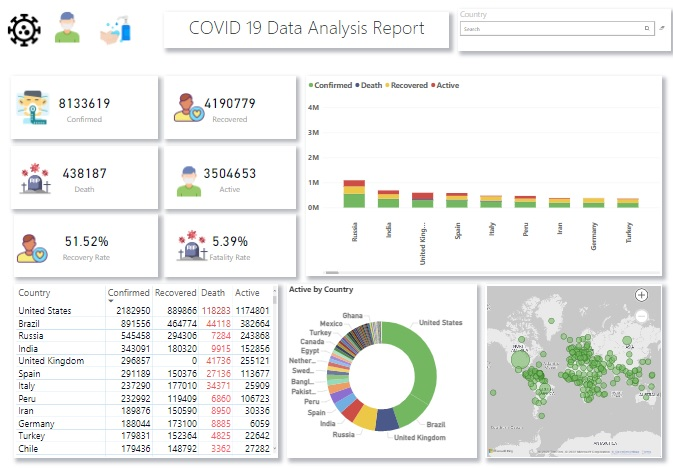

The dashboard page shown, as its layout file describes it:
{"tool":"powerbi","page":{"name":"DataAnalysis Covid","canvas":[1800,1300],"ordinal":0},"visuals":[{"type":"card","fields":{"Values":["Sum(countries.Recovered)"]},"box":[448.5,232.2,347.3,164.7],"z":0},{"type":"card","fields":{"Values":["Sum(countries.Death)"]},"box":[45.6,416.8,387,164.7],"z":1000},{"type":"image","box":[32,64,96,96],"z":2000},{"type":"image","box":[144,48,96,112],"z":3000},{"type":"image","box":[466.4,258,97.2,113.1],"z":4000},{"type":"image","box":[51.6,452.5,111.1,95.3],"z":5000},{"type":"image","box":[272,64,96,96],"z":6000},{"type":"textbox","box":[448,64,752,96],"z":7000},{"type":"card","fields":{"Values":["Sum(countries.Confirmed)"]},"box":[45.6,232.2,387,164.7],"z":8000},{"type":"image","box":[51.6,263.9,99.2,103.2],"z":9000},{"type":"card","fields":{"Values":["Sum(countries.Active)"]},"box":[448.5,416.8,347.3,164.7],"z":10000},{"type":"card","fields":{"Values":["countries.Recovery Rate"]},"box":[51.6,595.4,381,164.7],"z":11000},{"type":"card","fields":{"Values":["countries.Fatality Rate"]},"box":[448.5,595.4,347.3,164.7],"z":12000},{"type":"image","box":[466.4,631.1,111.1,95.3],"z":13000},{"type":"image","box":[466.4,452.5,95.3,113.1],"z":14000},{"type":"image","box":[53.6,631.1,97.2,113.1],"z":15000},{"type":"columnChart","fields":{"Category":["countries.Country"],"Y":["Sum(countries.Confirmed)","Sum(countries.Death)","Sum(countries.Recovered)","Sum(countries.Active)"]},"box":[823.6,232.2,938.7,527.9],"z":16000},{"type":"tableEx","fields":{"Values":["countries.Country","Sum(countries.Confirmed)","Sum(countries.Recovered)","Sum(countries.Death)","Sum(countries.Active)"]},"box":[51.6,779.9,696.6,460.4],"z":17000},{"type":"map","fields":{"Category":["countries.Country"],"Size":["Sum(countries.Confirmed)"]},"box":[1293.9,779.9,468.4,460.4],"z":18000},{"type":"textFilter25A4896A83E0487089E2B90C9AE57C8A","fields":{"field":["countries.Country"]},"box":[1224.5,55.6,561.6,111.1],"z":19000},{"type":"donutChart","fields":{"Category":["countries.Country"],"Y":["Sum(countries.Active)"]},"box":[772,779.9,500.1,460.4],"z":19001}]}

Visuals, with their boxes on the page's 1800x1300 design canvas (x1, y1, x2, y2). These are canvas units, not pixel positions in the 673x468 screenshot, which may show the page scaled, cropped or inside an application window:
card - Sum(countries.Recovered): <box>448,232,796,397</box>
card - Sum(countries.Death): <box>46,417,433,582</box>
image: <box>32,64,128,160</box>
image: <box>144,48,240,160</box>
image: <box>466,258,564,371</box>
image: <box>52,452,163,548</box>
image: <box>272,64,368,160</box>
textbox: <box>448,64,1200,160</box>
card - Sum(countries.Confirmed): <box>46,232,433,397</box>
image: <box>52,264,151,367</box>
card - Sum(countries.Active): <box>448,417,796,582</box>
card - countries.Recovery Rate: <box>52,595,433,760</box>
card - countries.Fatality Rate: <box>448,595,796,760</box>
image: <box>466,631,578,726</box>
image: <box>466,452,562,566</box>
image: <box>54,631,151,744</box>
columnChart - countries.Country x Sum(countries.Confirmed): <box>824,232,1762,760</box>
tableEx - countries.Country x Sum(countries.Confirmed): <box>52,780,748,1240</box>
map - countries.Country x Sum(countries.Confirmed): <box>1294,780,1762,1240</box>
textFilter25A4896A83E0487089E2B90C9AE57C8A - countries.Country: <box>1224,56,1786,167</box>
donutChart - countries.Country x Sum(countries.Active): <box>772,780,1272,1240</box>
